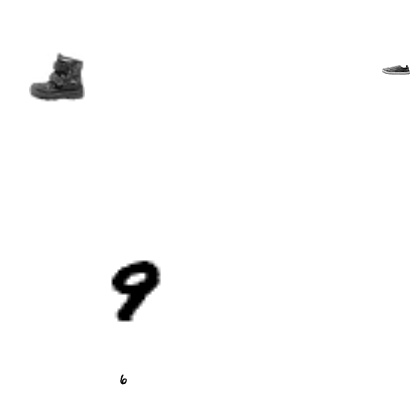6: (116, 373, 130, 387)
9: (91, 243, 175, 327)
Ankle_boot: (29, 49, 85, 105)
Sneaker: (382, 56, 410, 84)
